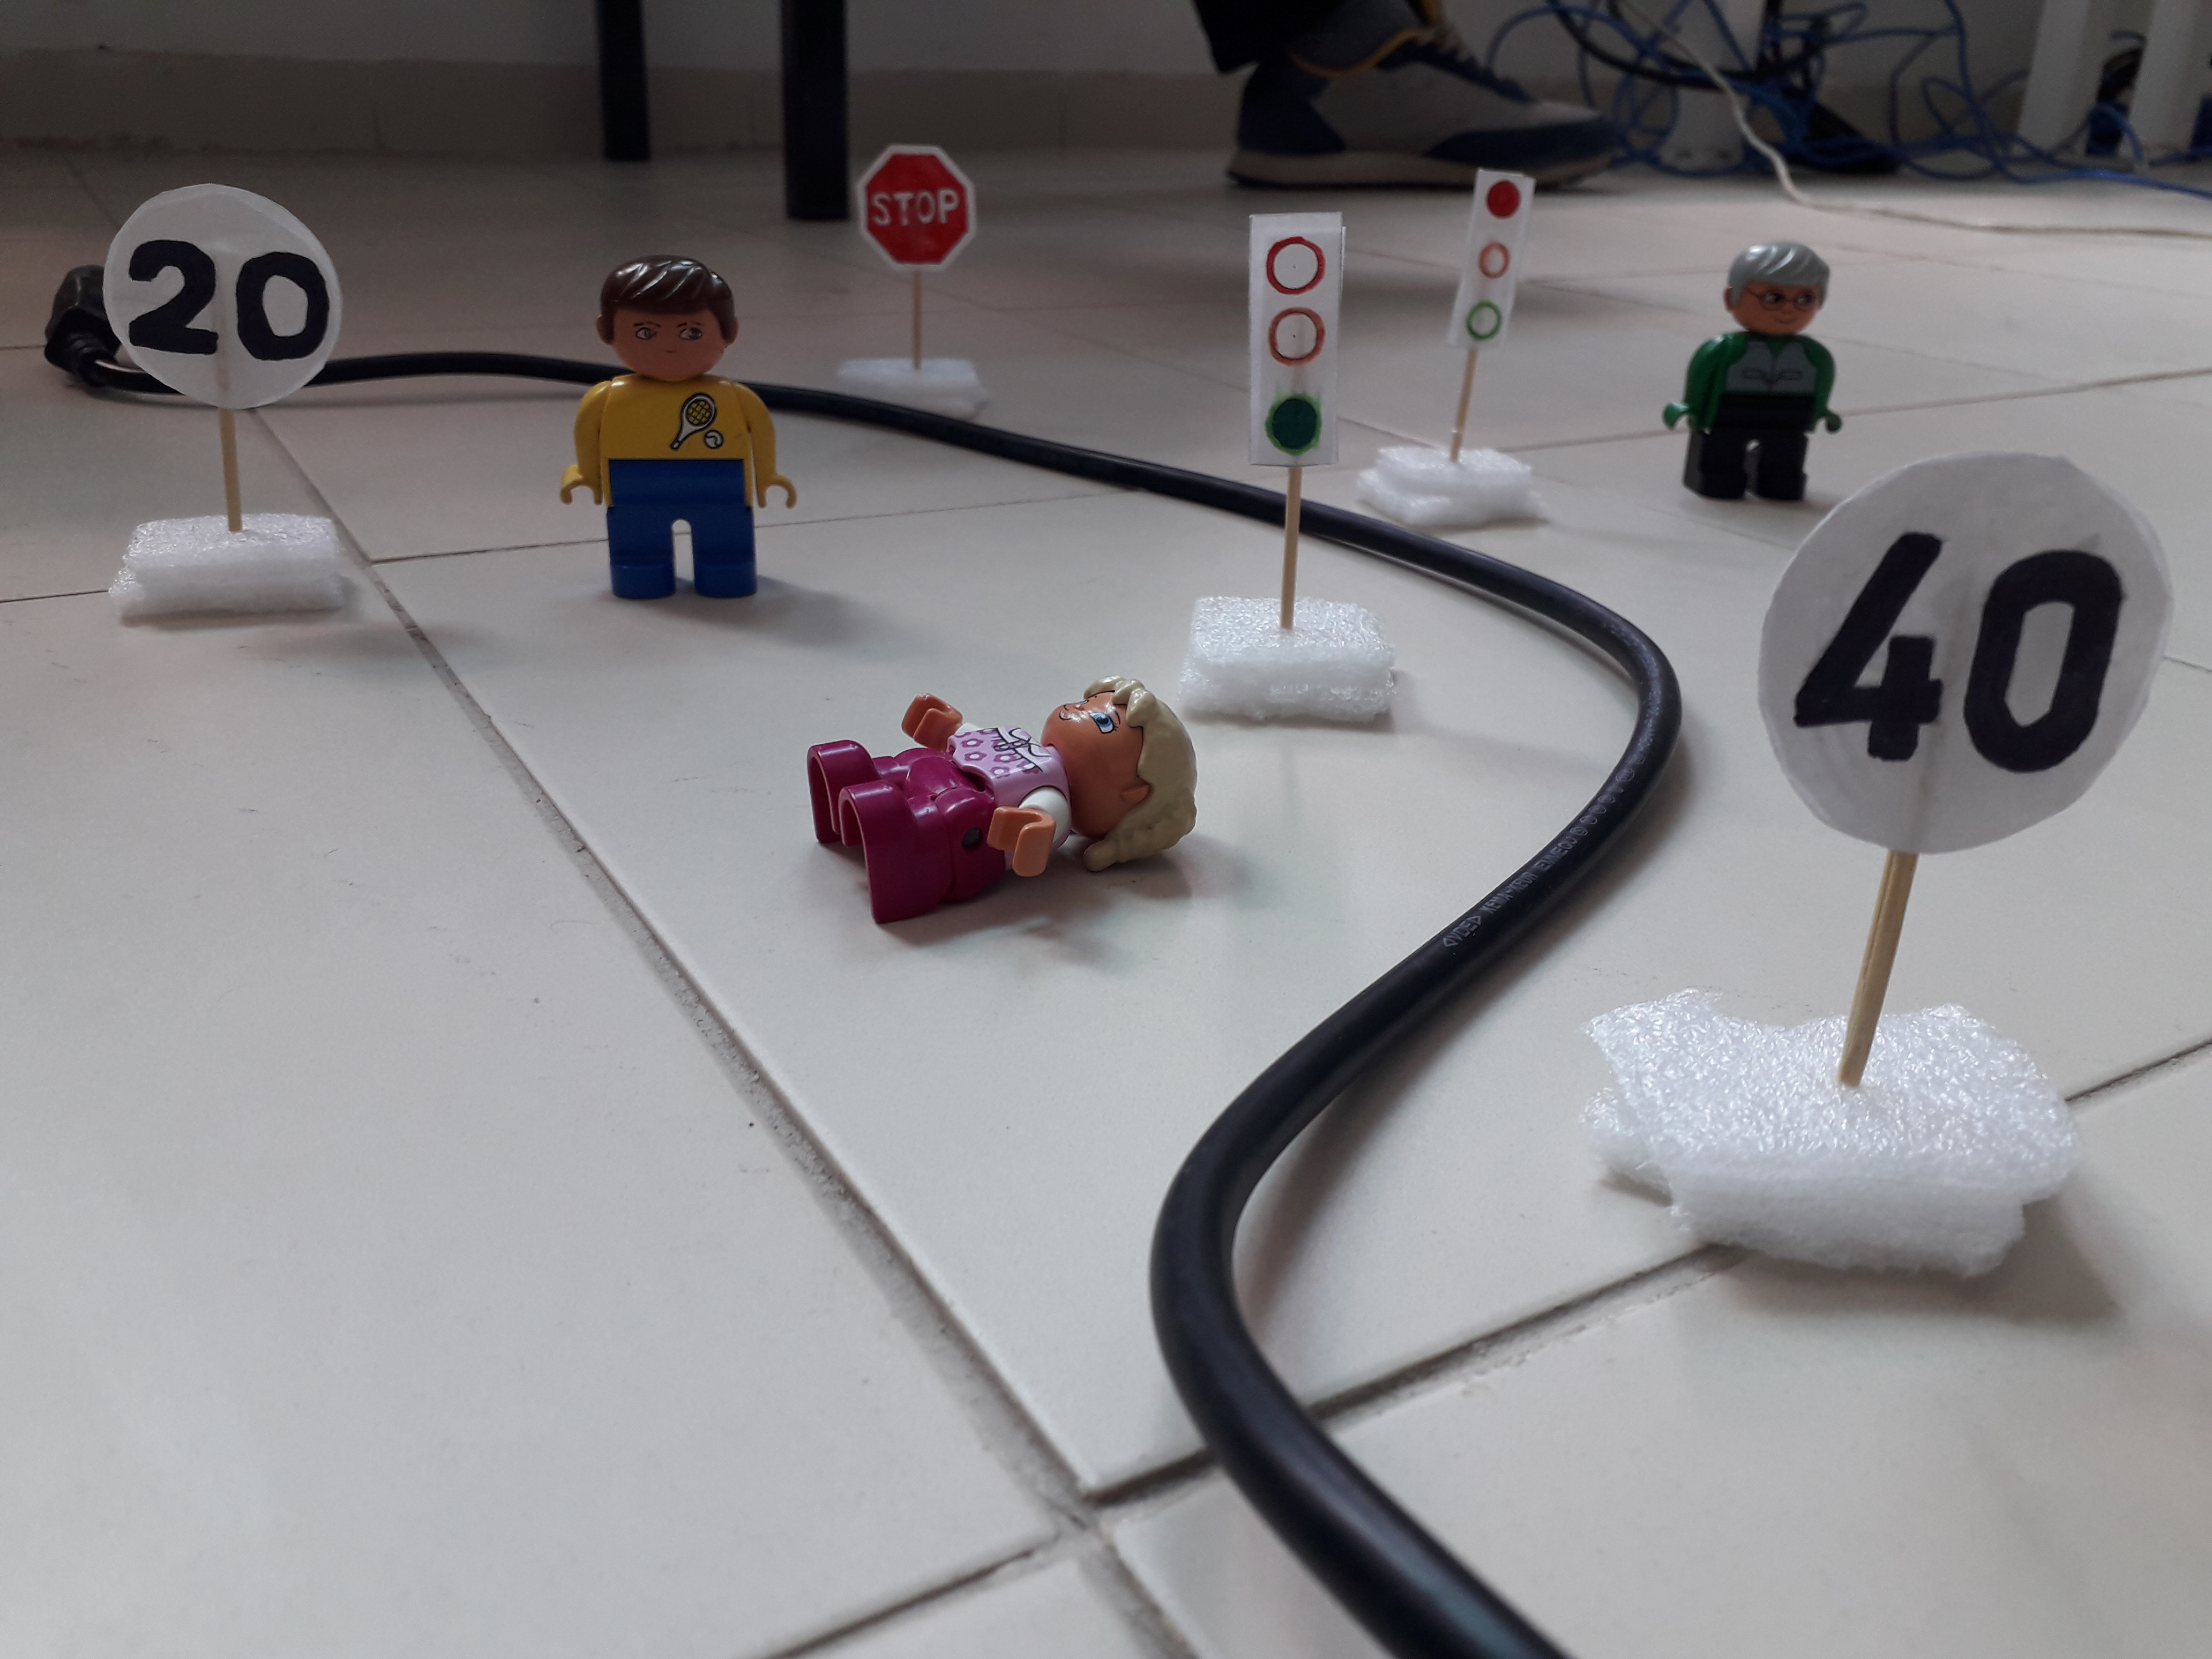20_sign: (102, 181, 347, 416)
40_sign: (1766, 454, 2179, 855)
green_light: (1237, 206, 1365, 482)
person: (806, 674, 1201, 941), (551, 257, 798, 615), (1656, 235, 1844, 515)
red_light: (1452, 161, 1546, 362)
stop_sign: (849, 138, 984, 278)
